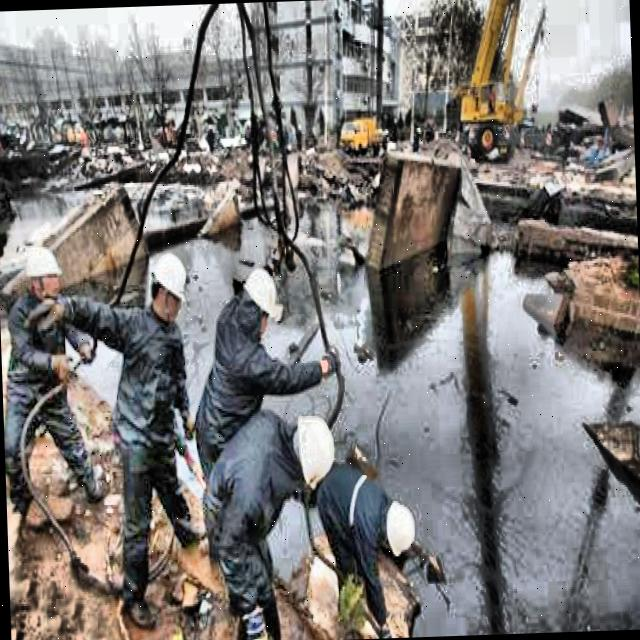helmet: (287, 408, 340, 494), (146, 248, 192, 325), (235, 263, 283, 334), (20, 244, 61, 300), (380, 506, 414, 569)
